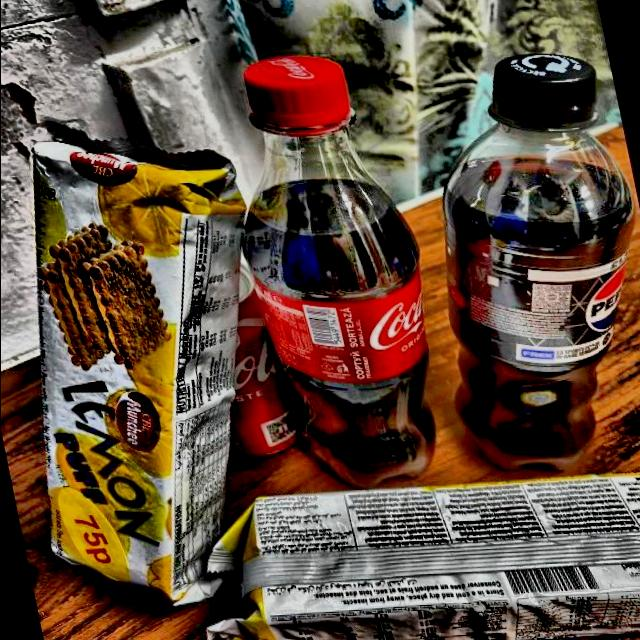coke-bottle: (240, 54, 430, 481)
coke-can: (224, 318, 300, 470)
lemon puff: (27, 134, 228, 610), (205, 478, 640, 640)
pepsi-bottle: (448, 62, 622, 461)
